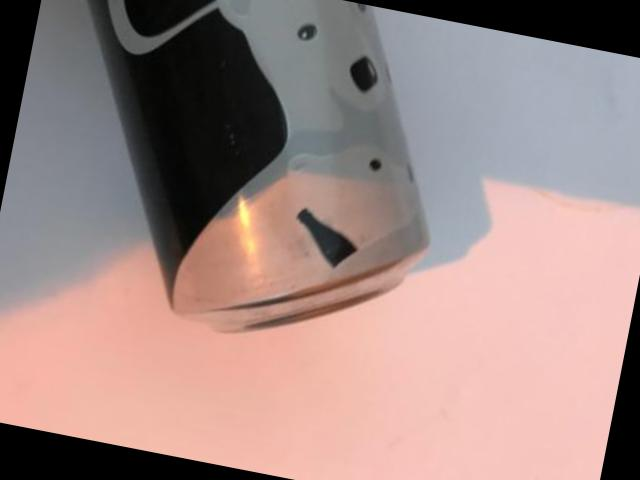metal: (89, 0, 429, 334)
